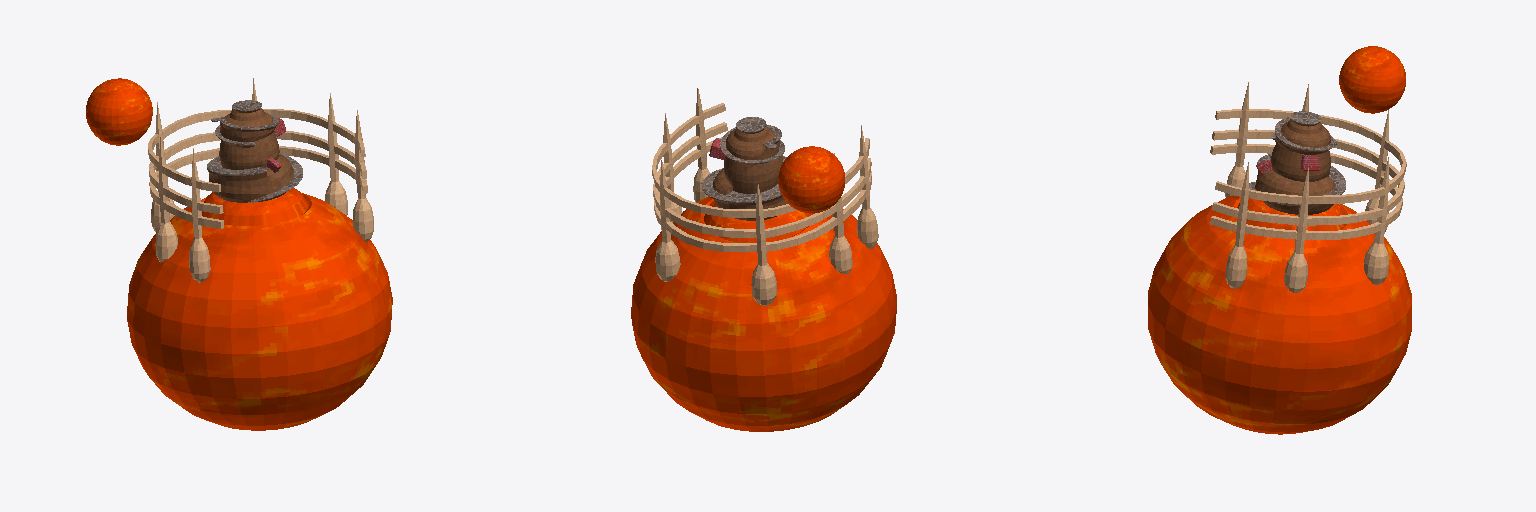
3 renders of one model, left to right at view 1: azimuth 30°, elevation 25°; view 2: azimuth 150°, elevation 25°; view 3: azimuth 270°, elevation 25°, orthographic.
Visible parts, largest first — view 1: m3, m5, m0, m4, m1; view 2: m3, m5, m0, m4, m1; view 3: m3, m5, m0, m4, m1.
Part boxes in pixels (left/top/right/bottom): m3: left=127, top=188, right=392, bottom=430; m5: left=148, top=78, right=373, bottom=282; m0: left=208, top=108, right=293, bottom=202; m4: left=86, top=78, right=152, bottom=145; m1: left=207, top=100, right=302, bottom=202; m3: left=631, top=196, right=896, bottom=431; m5: left=652, top=88, right=878, bottom=305; m0: left=713, top=126, right=787, bottom=220; m4: left=778, top=146, right=844, bottom=213; m1: left=701, top=117, right=786, bottom=202; m3: left=1148, top=195, right=1411, bottom=434; m5: left=1210, top=82, right=1406, bottom=292; m0: left=1255, top=119, right=1335, bottom=214; m4: left=1339, top=46, right=1405, bottom=113; m1: left=1249, top=111, right=1345, bottom=204.
Bounding box in the file's own units: 59.92 × 77.83 × 57.37.
6 materials, 5 textured.